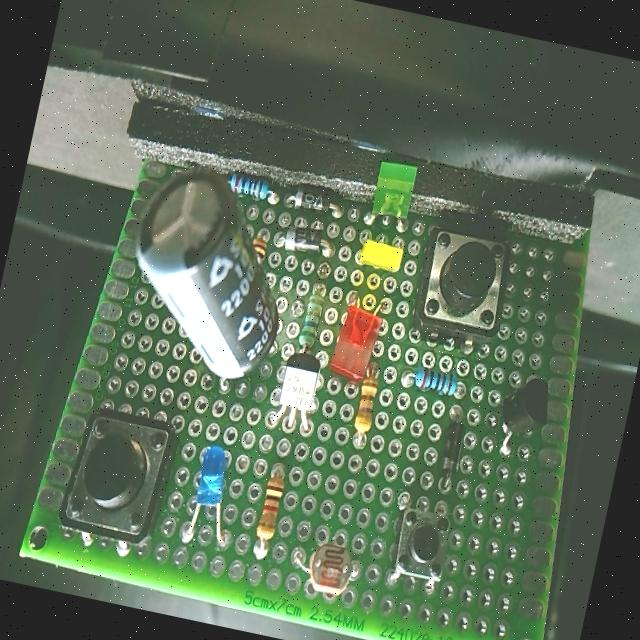Electrolytic capacitor: (108, 153, 308, 402)
cds: (304, 542, 362, 602)
diode: (431, 416, 473, 484), (278, 220, 334, 268), (288, 181, 344, 222)
led: (324, 292, 391, 386), (362, 151, 421, 226), (184, 437, 237, 518), (354, 236, 408, 280)
resistor: (288, 282, 332, 356), (405, 354, 460, 410), (218, 164, 282, 212), (248, 474, 288, 550), (347, 372, 385, 442), (242, 220, 276, 278)
switch: (51, 397, 182, 561), (408, 218, 516, 354), (386, 499, 462, 588)
transistor: (267, 344, 327, 424), (498, 376, 558, 443)
